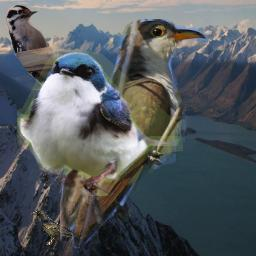Crow: (30, 210, 83, 245)
Cuckoo: (60, 19, 242, 248)
Swallow: (17, 51, 183, 196)
Woodpecker: (6, 5, 91, 95)
